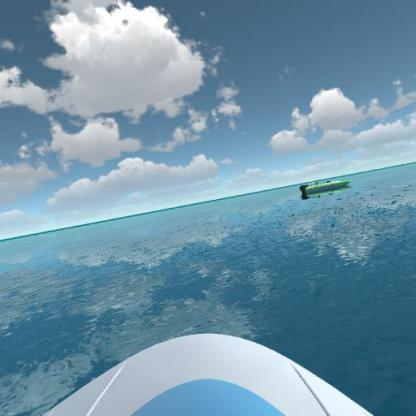usv0: (297, 175, 355, 199)
